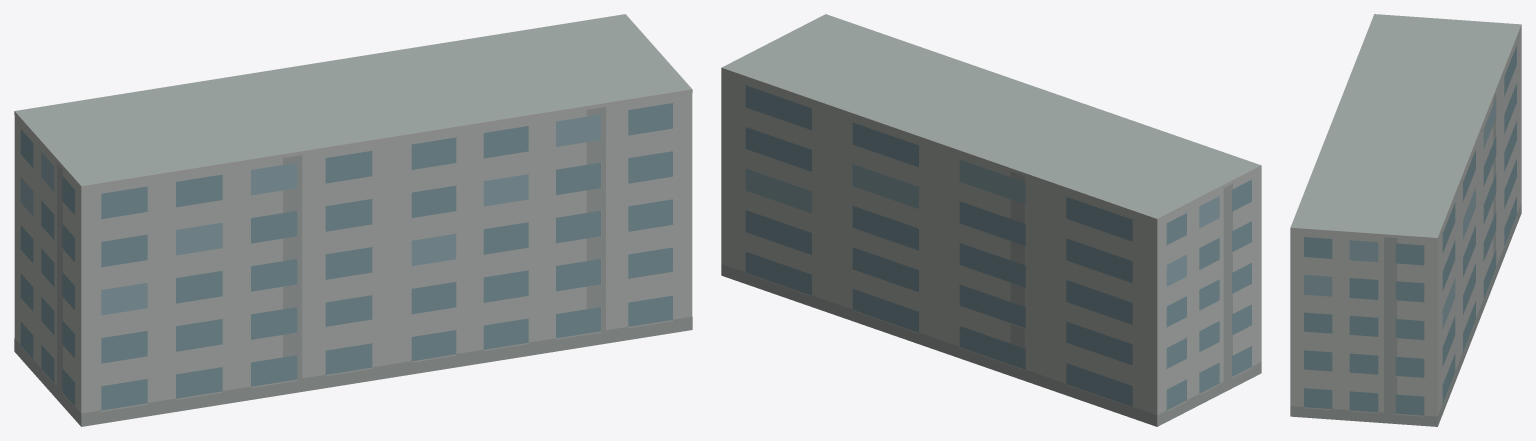
File: residential-902624e1-7124-4ab2-9954-53035c187866.glb
3 views of the same model, side by side, from view 1: azimuth 30°, elevation 25°; view 2: azimuth 150°, elevation 25°; view 3: azimuth 270°, elevation 25° (orthographic). The views are drawn at different scales.
Parts seen in each view (by area): view 1: residential-902624e1-7124-4ab2-9954-53035c187866.tmp; view 2: residential-902624e1-7124-4ab2-9954-53035c187866.tmp; view 3: residential-902624e1-7124-4ab2-9954-53035c187866.tmp.
Part boxes in pixels (bbox=[...]): residential-902624e1-7124-4ab2-9954-53035c187866.tmp: bbox=[14, 14, 692, 426]; residential-902624e1-7124-4ab2-9954-53035c187866.tmp: bbox=[721, 14, 1261, 426]; residential-902624e1-7124-4ab2-9954-53035c187866.tmp: bbox=[1290, 14, 1521, 426].
Size of the model in its own units: 38.79 by 15.25 by 16.92.
